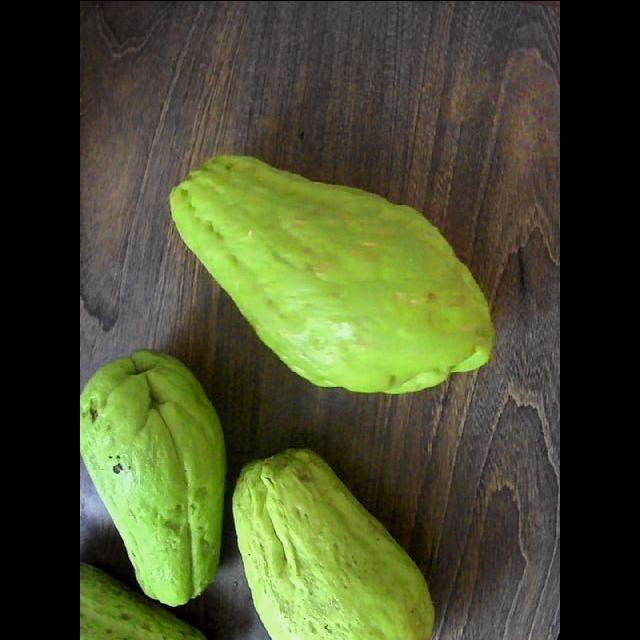chayote: (170, 155, 493, 392), (233, 448, 434, 639), (80, 350, 225, 604), (80, 562, 207, 639)
